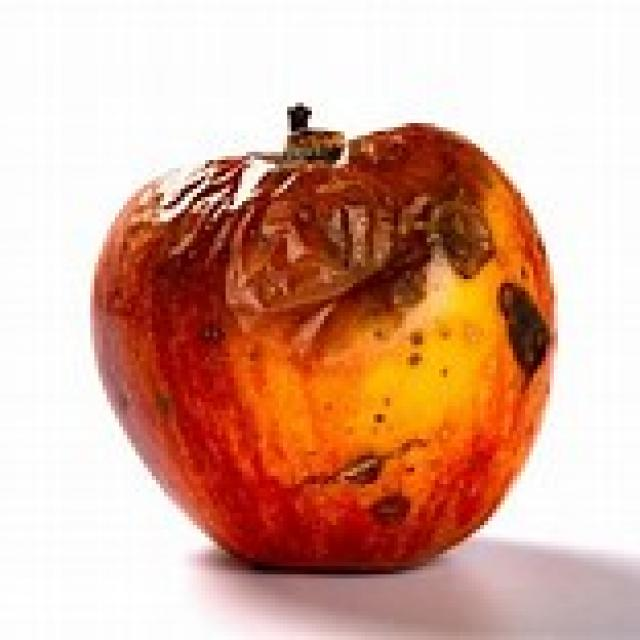Apple: (81, 95, 560, 577)
